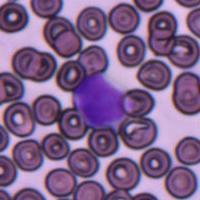L: (71, 72, 134, 129)
